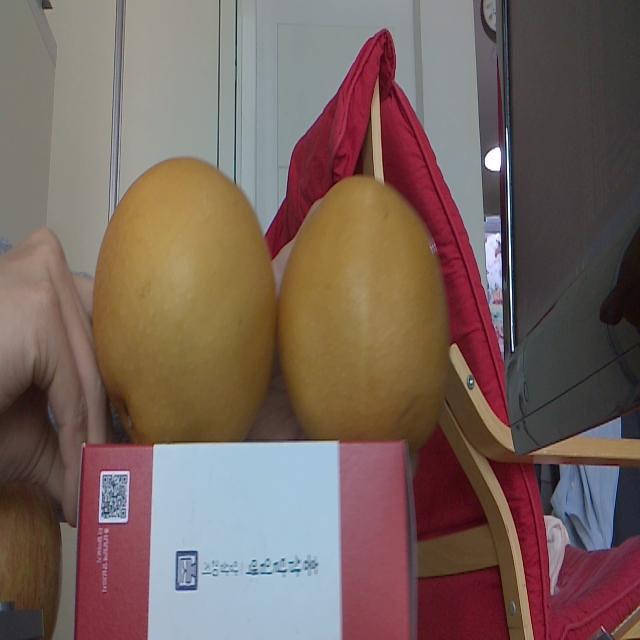pear: (92, 157, 280, 442), (279, 167, 451, 442)
